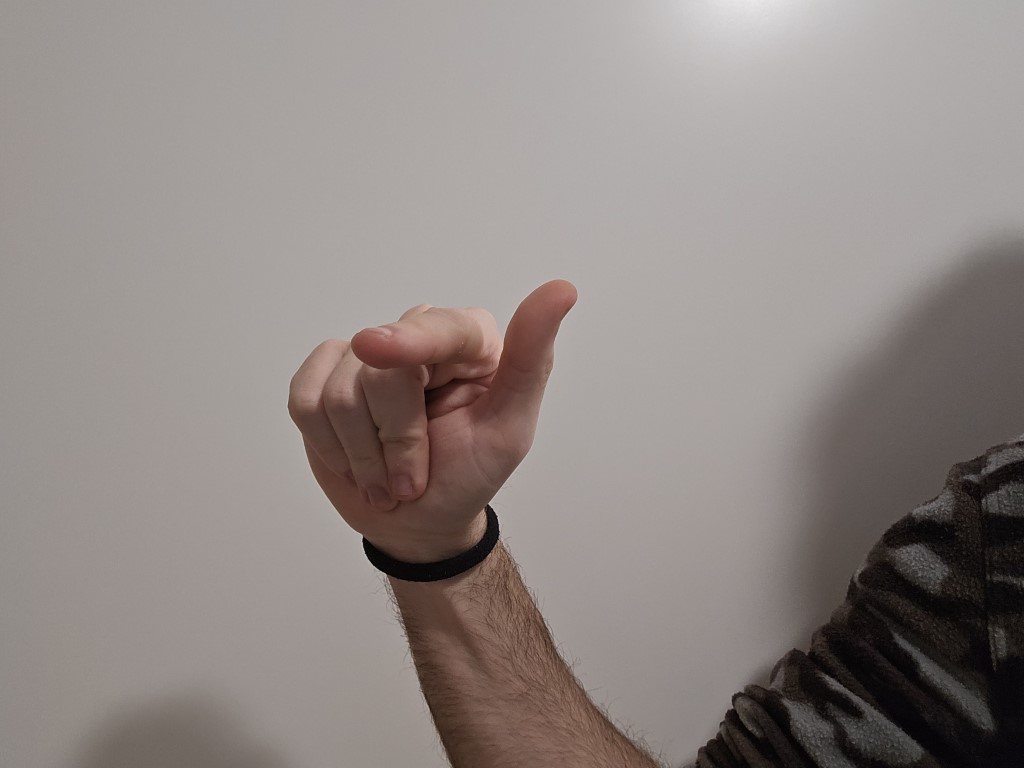t: (255, 264, 599, 527)
